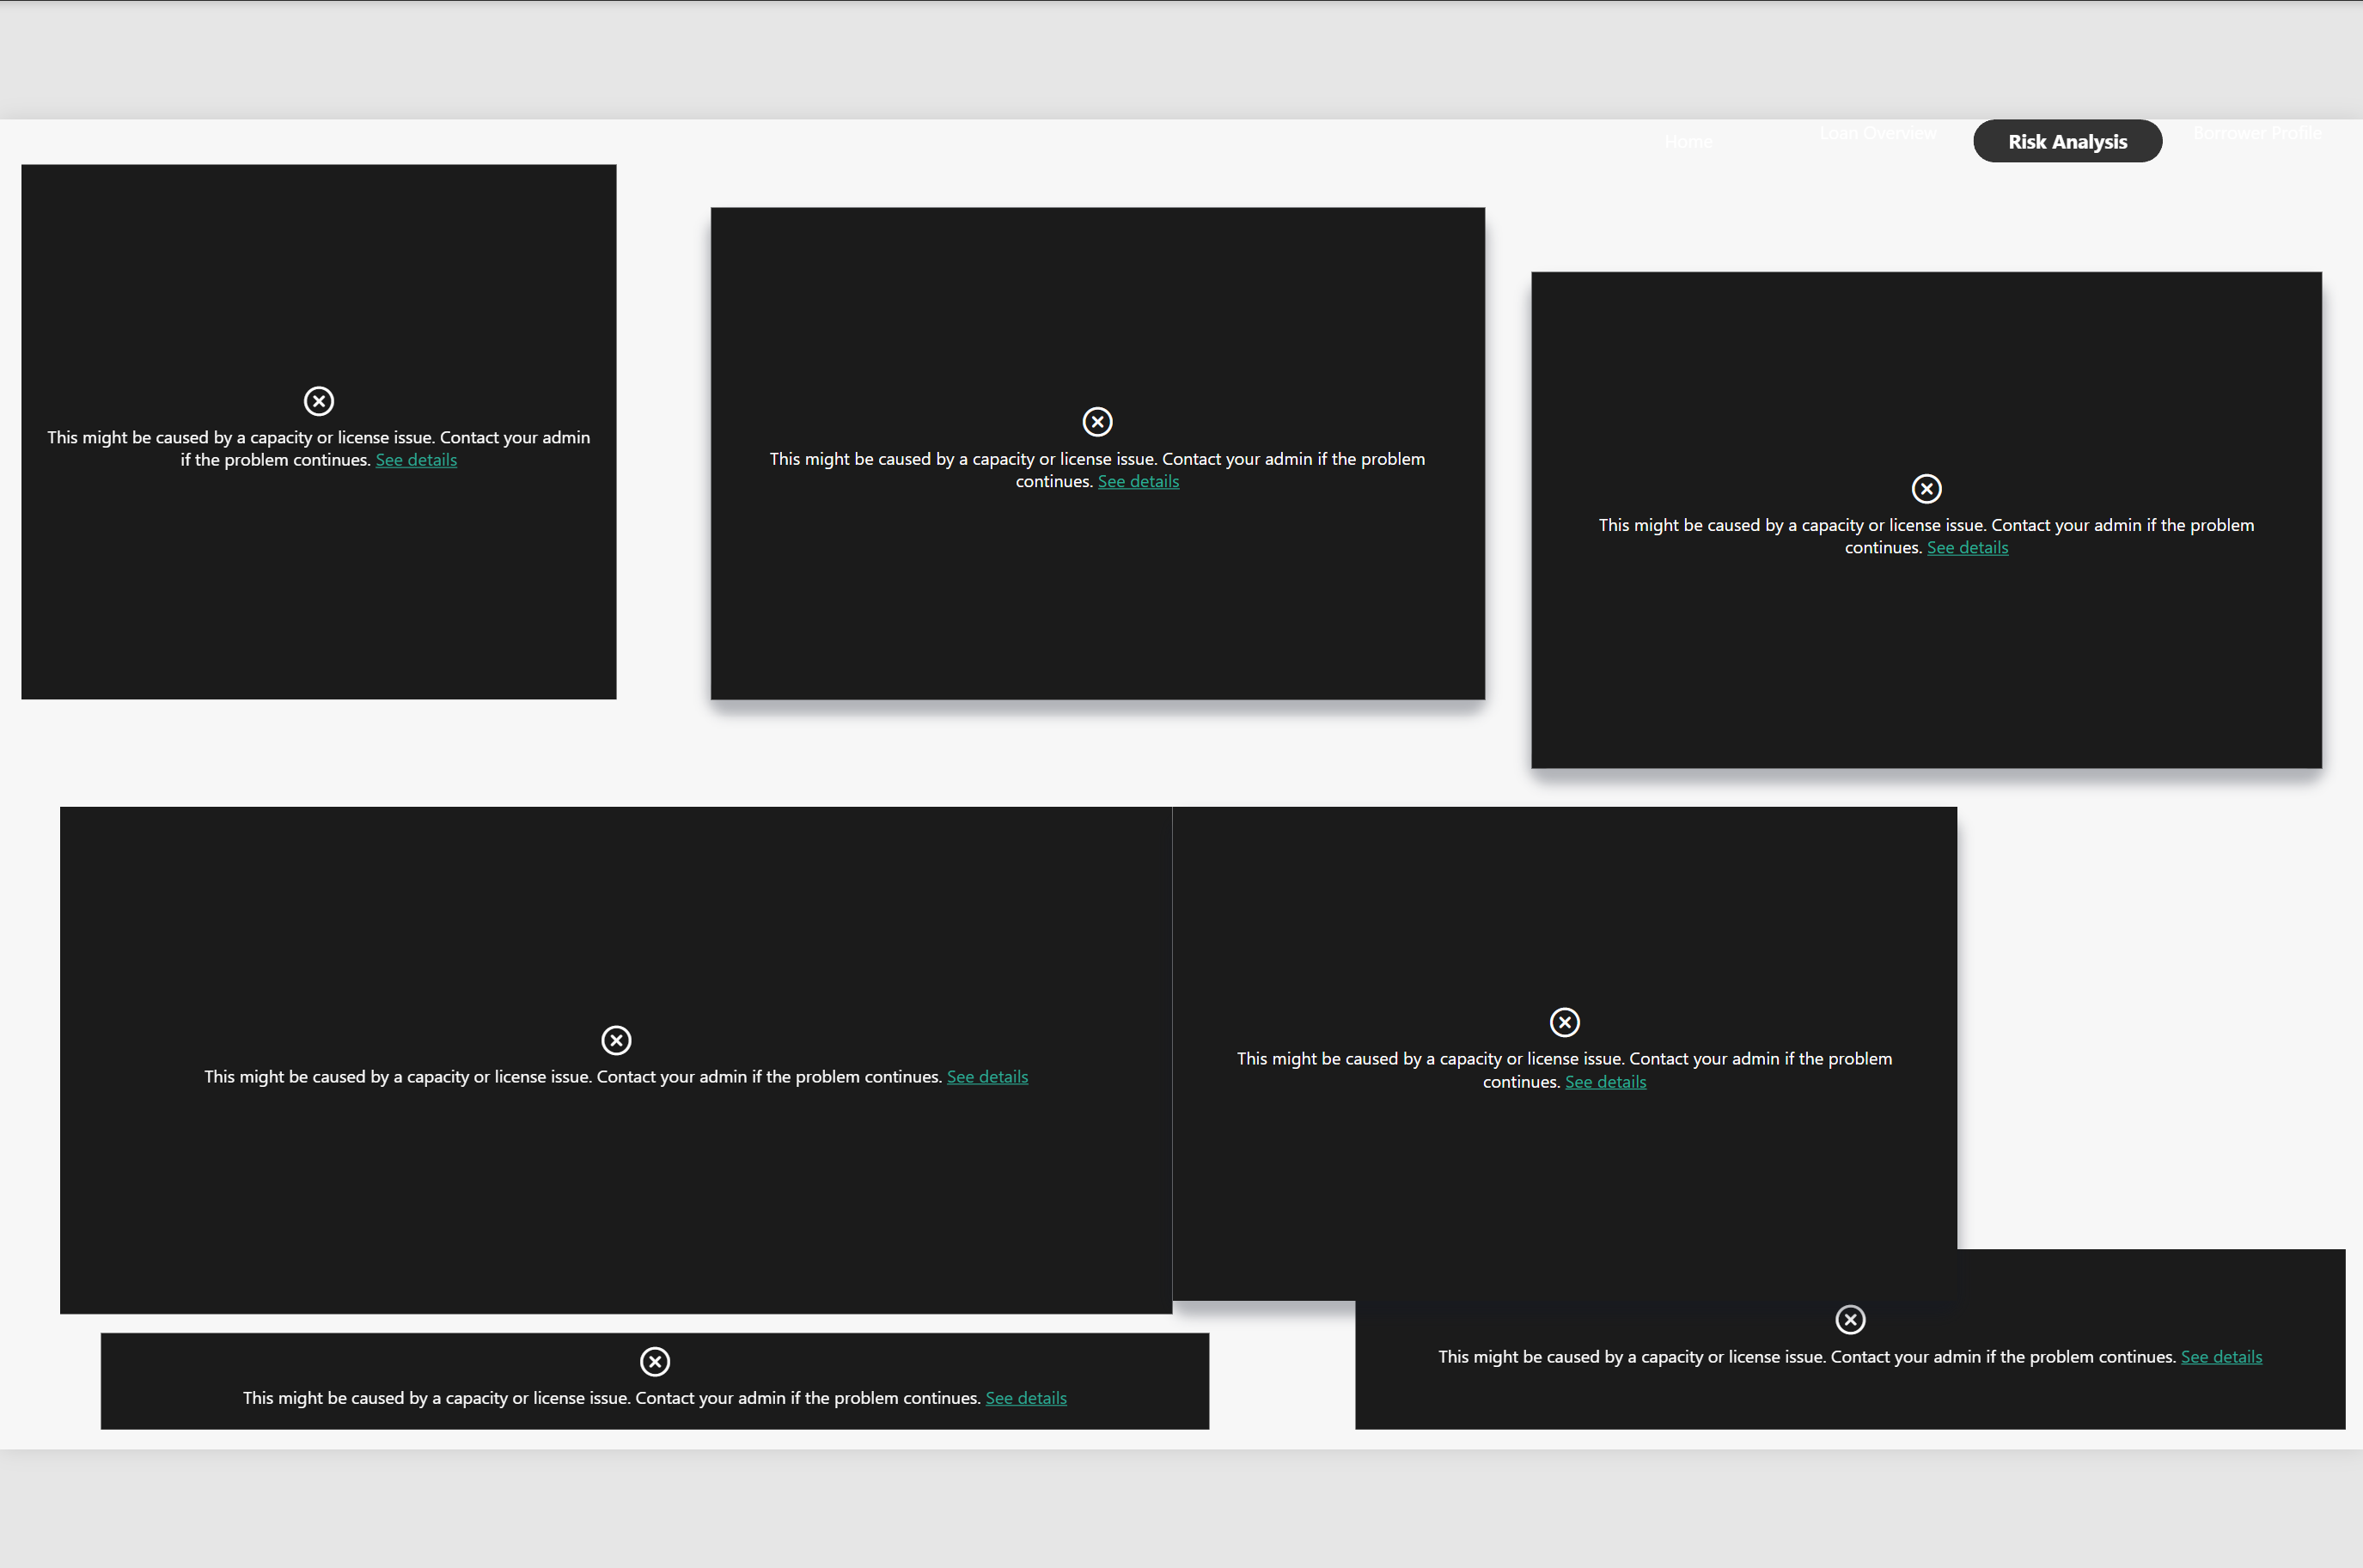

The dashboard page shown, as its layout file describes it:
{"tool":"powerbi","page":{"name":"Risk Analysis","canvas":[1920,1275],"ordinal":2},"visuals":[{"type":"htmlContent443BE3AD55E043BF878BED274D3A6855","fields":{"content":["_Measures.Risk Hero HTML"]},"box":[14,291.4,601.9,352.4],"z":0},{"type":"htmlContent443BE3AD55E043BF878BED274D3A6855","fields":{"content":["_Measures.Risk Purpose Share Bars HTML"]},"box":[1182.3,443.8,718.6,711.6],"z":0,"group":"g1"},{"type":"htmlContent443BE3AD55E043BF878BED274D3A6855","fields":{"content":["_Measures.Risk Outcome Split HTML"]},"box":[14,1010.2,1181.1,233.8],"z":1000},{"type":"htmlContent443BE3AD55E043BF878BED274D3A6855","fields":{"content":["_Measures.Risk Purpose Insight HTML"]},"box":[1195.7,1119.1,692.4,106.4],"z":1000,"group":"g1"},{"type":"htmlContent443BE3AD55E043BF878BED274D3A6855","fields":{"content":["_Measures.Risk Trend Multi HTML"]},"box":[14,629.8,1181.1,394.3],"z":2000},{"type":"barChart","title":"Default Rate by Grade","fields":{"Category":["dim_grade.grade"],"Y":["_Measures.AVG Default Rate"]},"box":[1198.6,129.1,685.7,312.3],"z":3000},{"type":"htmlContent443BE3AD55E043BF878BED274D3A6855","fields":{"content":["_Measures.Risk Page Title HTML"]},"box":[34.9,12.2,1856.3,116.9],"z":4000},{"type":"columnChart","title":"Default Rate by Term","fields":{"Category":["fact_loan.term_months"],"Y":["_Measures.AVG Default Rate"]},"box":[615.9,307.1,560,322.8],"z":5000},{"type":"pageNavigator","box":[645.1,12.2,629.8,52.3],"z":6000},{"type":"htmlContent443BE3AD55E043BF878BED274D3A6855","fields":{"content":["_Measures.Risk KPI Cards HTML"]},"box":[34.9,129.1,1141,162.3],"z":7000},{"type":"group","id":"g1","title":"Group 1","box":[1182.3,443.8,718.6,781.7],"z":8000},{"type":"htmlContent443BE3AD55E043BF878BED274D3A6855","fields":{"content":["_Measures.Risk Analysis Filter Launcher HTML"]},"box":[1751.7,25,140,58.3],"z":9000},{"type":"actionButton","box":[1751.7,25,131.7,45],"z":10000}]}

Visuals, with their boxes on the page's 1920x1275 design canvas (x1, y1, x2, y2). These are canvas units, not pixel positions in the 2363x1568 screenshot, which may show the page scaled, cropped or inside an application window:
htmlContent443BE3AD55E043BF878BED274D3A6855 - _Measures.Risk Hero HTML: locate(14, 291, 616, 644)
htmlContent443BE3AD55E043BF878BED274D3A6855 - _Measures.Risk Purpose Share Bars HTML: locate(1182, 444, 1901, 1155)
htmlContent443BE3AD55E043BF878BED274D3A6855 - _Measures.Risk Outcome Split HTML: locate(14, 1010, 1195, 1244)
htmlContent443BE3AD55E043BF878BED274D3A6855 - _Measures.Risk Purpose Insight HTML: locate(1196, 1119, 1888, 1226)
htmlContent443BE3AD55E043BF878BED274D3A6855 - _Measures.Risk Trend Multi HTML: locate(14, 630, 1195, 1024)
"Default Rate by Grade" barChart: locate(1199, 129, 1884, 441)
htmlContent443BE3AD55E043BF878BED274D3A6855 - _Measures.Risk Page Title HTML: locate(35, 12, 1891, 129)
"Default Rate by Term" columnChart: locate(616, 307, 1176, 630)
pageNavigator: locate(645, 12, 1275, 64)
htmlContent443BE3AD55E043BF878BED274D3A6855 - _Measures.Risk KPI Cards HTML: locate(35, 129, 1176, 291)
"Group 1" group: locate(1182, 444, 1901, 1226)
htmlContent443BE3AD55E043BF878BED274D3A6855 - _Measures.Risk Analysis Filter Launcher HTML: locate(1752, 25, 1892, 83)
actionButton: locate(1752, 25, 1883, 70)
